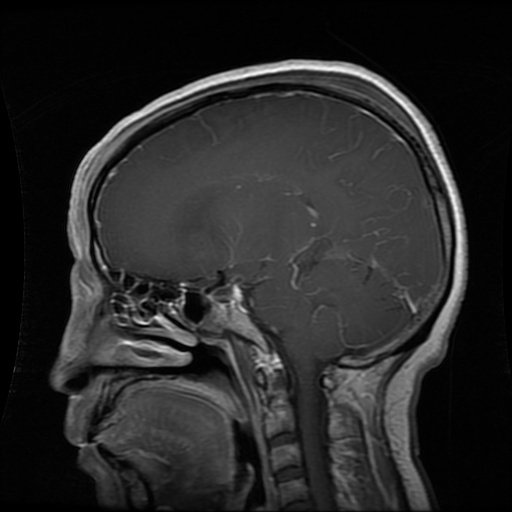glioma: (171, 180, 222, 266)
